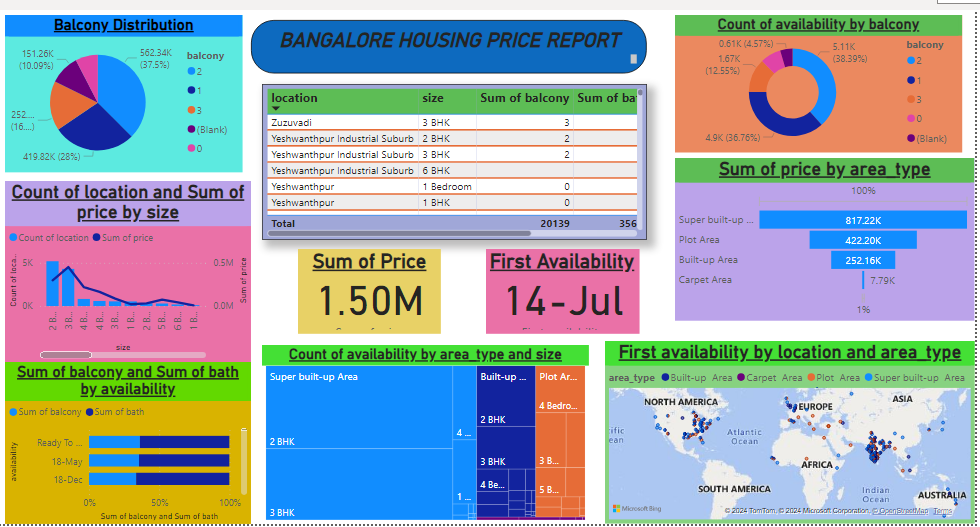

What the dashboard file says about the page in this screenshot:
{"tool":"powerbi","page":{"name":"Page 1","canvas":[1280,720],"ordinal":0},"visuals":[{"type":"pieChart","title":"Balcony Distribution","fields":{"Category":["bengaluru_house_prices.balcony"],"Y":["Sum(bengaluru_house_prices.price)"]},"box":[11,53.7,311.1,206.5],"z":0},{"type":"textbox","title":"BANGALORE HOUSING PRICE REPORT","box":[333.1,60.6,517.5,70.2],"z":1000},{"type":"lineClusteredColumnComboChart","fields":{"Y2":["Sum(bengaluru_house_prices.price)"],"Category":["bengaluru_house_prices.size"],"Y":["CountNonNull(bengaluru_house_prices.location)"]},"box":[11,271.1,322.1,236.7],"z":2000},{"type":"donutChart","fields":{"Category":["bengaluru_house_prices.balcony"],"Y":["CountNonNull(bengaluru_house_prices.availability)"]},"box":[887.7,53.7,375.7,180.3],"z":3000},{"type":"treemap","fields":{"Group":["bengaluru_house_prices.area_type"],"Values":["CountNonNull(bengaluru_house_prices.availability)"],"Details":["bengaluru_house_prices.size"]},"box":[346.8,485.8,428,234],"z":4000},{"type":"funnel","fields":{"Category":["bengaluru_house_prices.area_type"],"Y":["Sum(bengaluru_house_prices.price)"]},"box":[887.7,240.9,392.3,213.3],"z":5000},{"type":"map","fields":{"Category":["bengaluru_house_prices.location"],"Series":["bengaluru_house_prices.area_type"],"Y":["Min(bengaluru_house_prices.availability)"]},"box":[795.5,480.3,484.5,239.5],"z":6000},{"type":"tableEx","fields":{"Values":["bengaluru_house_prices.location","bengaluru_house_prices.size","Sum(bengaluru_house_prices.balcony)","Sum(bengaluru_house_prices.bath)","Sum(bengaluru_house_prices.price)","bengaluru_house_prices.society"]},"box":[346.8,144.5,503.7,203.7],"z":7000},{"type":"actionButton","box":[0,0,100,40],"z":8000},{"type":"card","title":"Sum of Price","fields":{"Values":["Sum(bengaluru_house_prices.price)"]},"box":[393.6,360.6,187.2,111.5],"z":9000},{"type":"card","title":"First Availability","fields":{"Values":["Min(bengaluru_house_prices.availability)"]},"box":[640,360.6,200.9,111.5],"z":10000},{"type":"hundredPercentStackedBarChart","fields":{"Category":["bengaluru_house_prices.availability"],"Y":["Sum(bengaluru_house_prices.balcony)","Sum(bengaluru_house_prices.bath)"]},"box":[11,508,322,212],"z":10001}]}

Visuals, with their boxes in screenshot pixels (x1, y1, x2, y2):
"Balcony Distribution" pieChart: bbox=[1, 11, 242, 171]
"BANGALORE HOUSING PRICE REPORT" textbox: bbox=[250, 16, 651, 71]
lineClusteredColumnComboChart - Sum(bengaluru_house_prices.price) x bengaluru_house_prices.size: bbox=[1, 179, 250, 362]
donutChart - bengaluru_house_prices.balcony x CountNonNull(bengaluru_house_prices.availability): bbox=[679, 11, 970, 150]
treemap - bengaluru_house_prices.area_type x CountNonNull(bengaluru_house_prices.availability): bbox=[261, 345, 592, 526]
funnel - bengaluru_house_prices.area_type x Sum(bengaluru_house_prices.price): bbox=[679, 156, 979, 321]
map - bengaluru_house_prices.location x bengaluru_house_prices.area_type: bbox=[608, 341, 979, 526]
tableEx - bengaluru_house_prices.location x bengaluru_house_prices.size: bbox=[261, 81, 651, 239]
"Sum of Price" card: bbox=[297, 248, 442, 335]
"First Availability" card: bbox=[488, 248, 643, 335]
hundredPercentStackedBarChart - bengaluru_house_prices.availability x Sum(bengaluru_house_prices.balcony): bbox=[1, 363, 250, 526]
